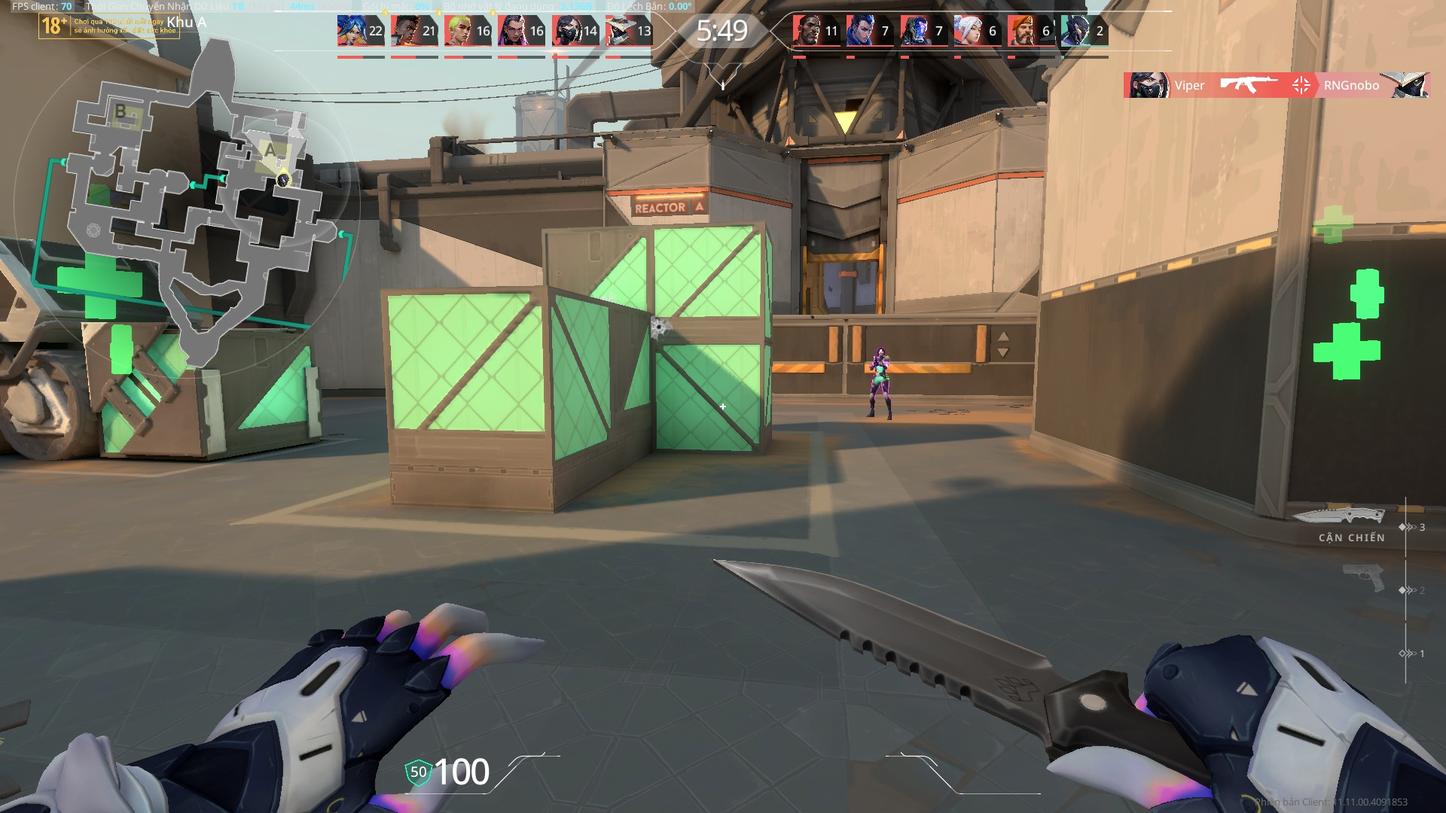body: (870, 356, 889, 381)
head: (875, 345, 885, 355)
